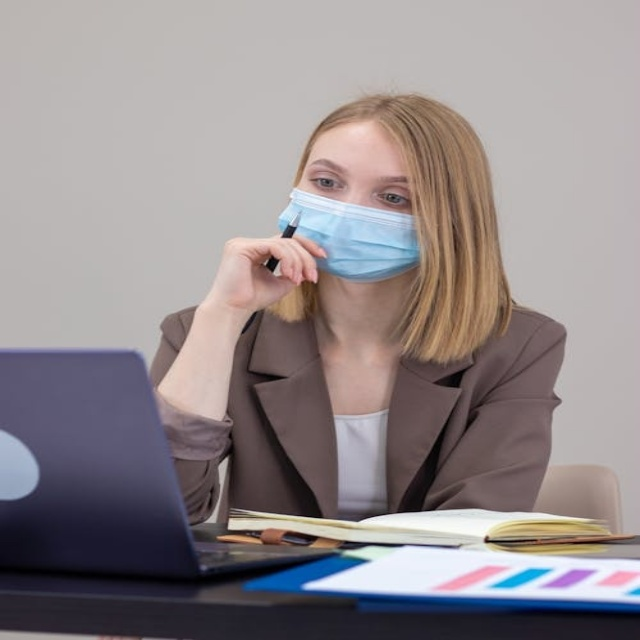Mascara: (276, 187, 426, 282)
Sin_gafas: (302, 157, 416, 207)
Sin_guantes: (198, 234, 332, 315)
